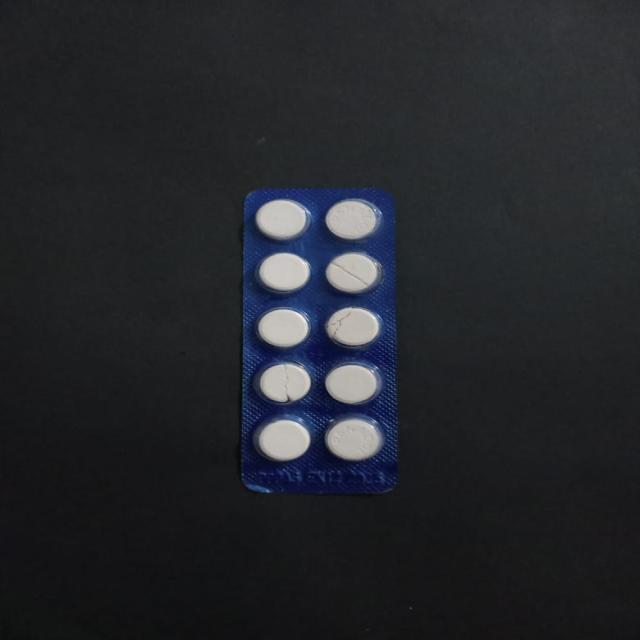defect: (253, 360, 316, 407), (323, 303, 383, 350), (323, 252, 386, 296)
